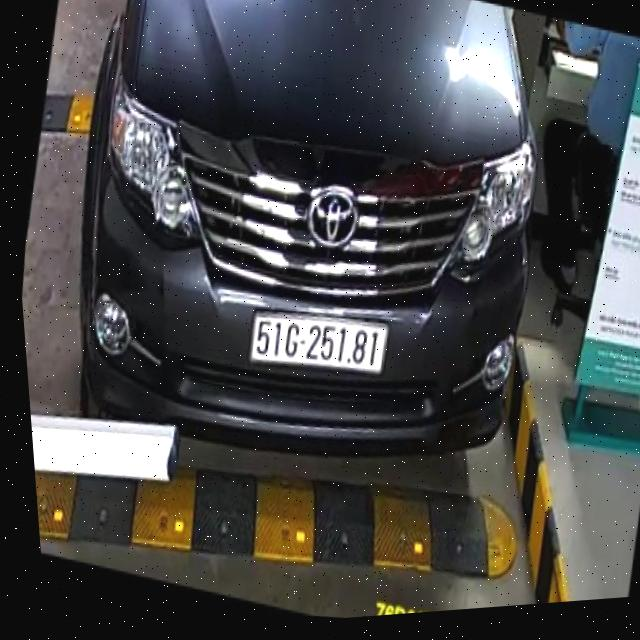car: (34, 0, 585, 511)
plate: (239, 294, 397, 391)
